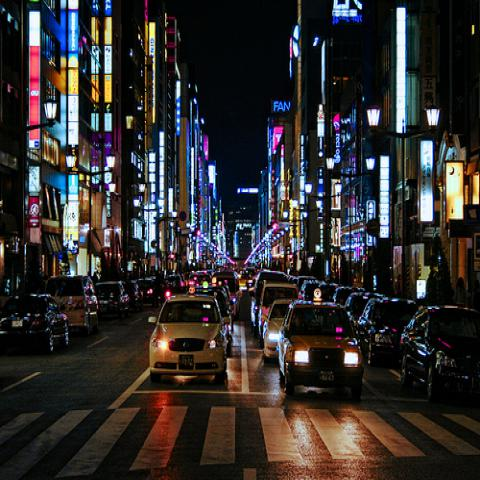car: (95, 277, 418, 365), (279, 300, 364, 401), (398, 301, 478, 399), (148, 296, 231, 383), (0, 292, 70, 356), (46, 273, 103, 338), (256, 281, 300, 350), (246, 270, 289, 338), (183, 286, 233, 331), (262, 299, 294, 364), (332, 287, 358, 306), (315, 284, 338, 302)
